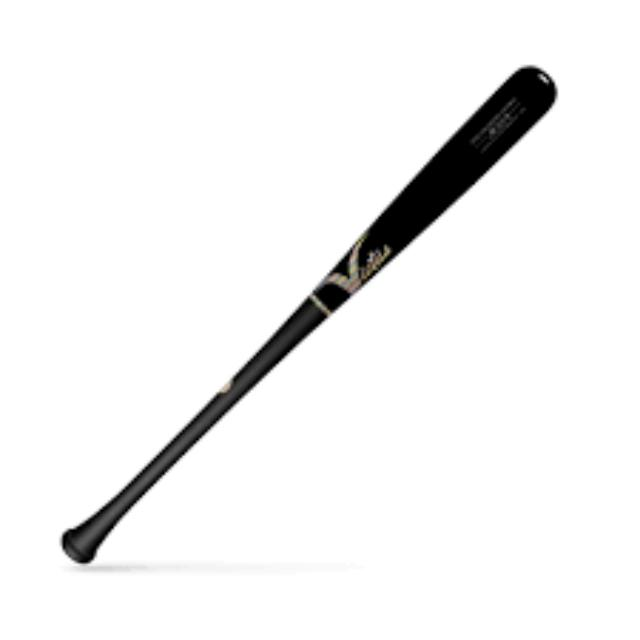baseball bat: (61, 59, 560, 562)
